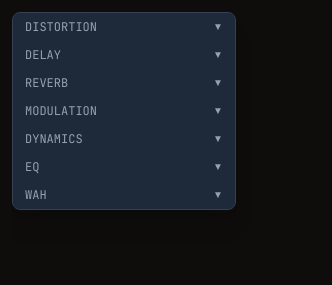
Test case: ModelBrowserDropdown › clicking a category toggles its expanded state
// Click Delay category to expand
Click the text "Delay".
click(43, 55)  # box [25,47,61,63]
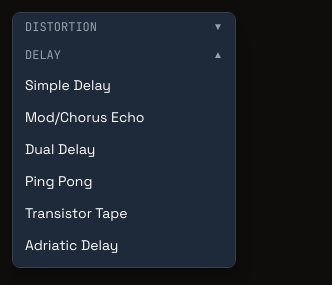
Check: the button "Simple Delay" is shown, box [13,69,235,101]
// Click again to collapse
Click the text "Delay".
click(43, 55)  # box [25,47,61,63]
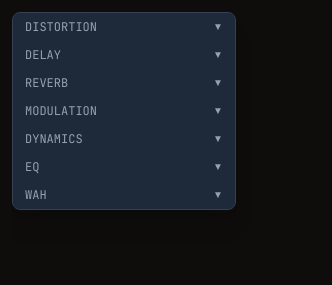
Check: the button "Simple Delay" is gone
